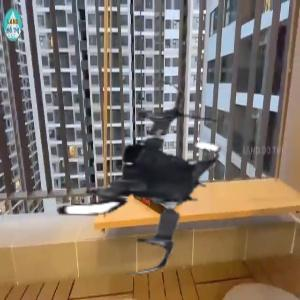drone: (28, 69, 241, 282)
